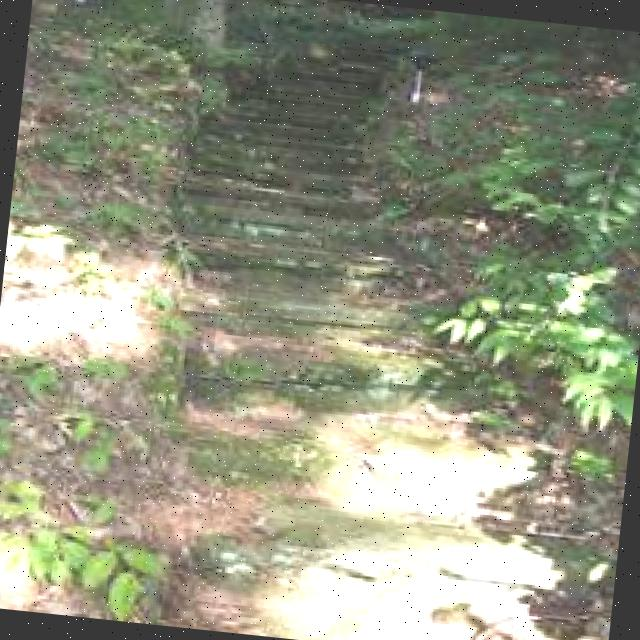stairs: (54, 32, 640, 640)
